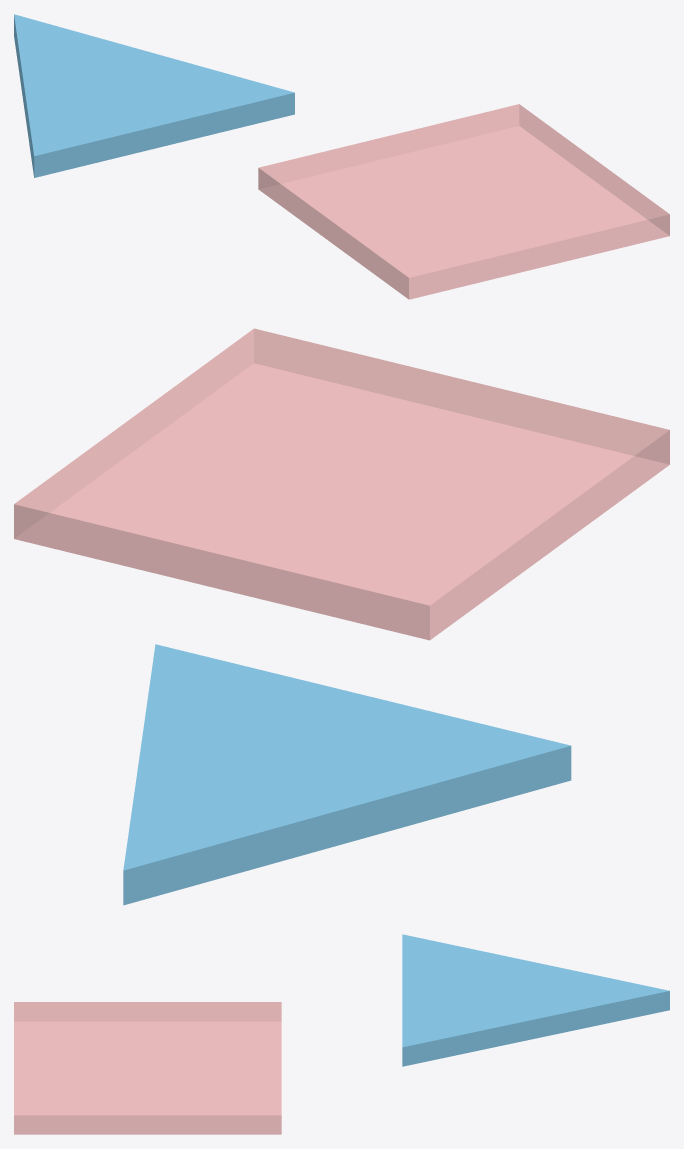
File: casa_step3.glb
3 renders of one model, top to bottom at view 1: azimuth 30°, elevation 25°; view 2: azimuth 150°, elevation 25°; view 3: azimuth 270°, elevation 25°, orthographic. The views are drawn at different scales.
Visible parts, largest first — view 1: quadrato_grande, triangolo_isoscele_grande; view 2: quadrato_grande, triangolo_isoscele_grande; view 3: quadrato_grande, triangolo_isoscele_grande.
Boxes of the visible parts, <box> form: quadrato_grande: <box>258,104,669,299</box>; triangolo_isoscele_grande: <box>14,14,294,177</box>; quadrato_grande: <box>14,328,669,640</box>; triangolo_isoscele_grande: <box>123,644,571,905</box>; quadrato_grande: <box>14,1002,281,1134</box>; triangolo_isoscele_grande: <box>402,934,669,1066</box>.
Bounding box in the file's own units: 1.6 × 0.08 × 2.45.
